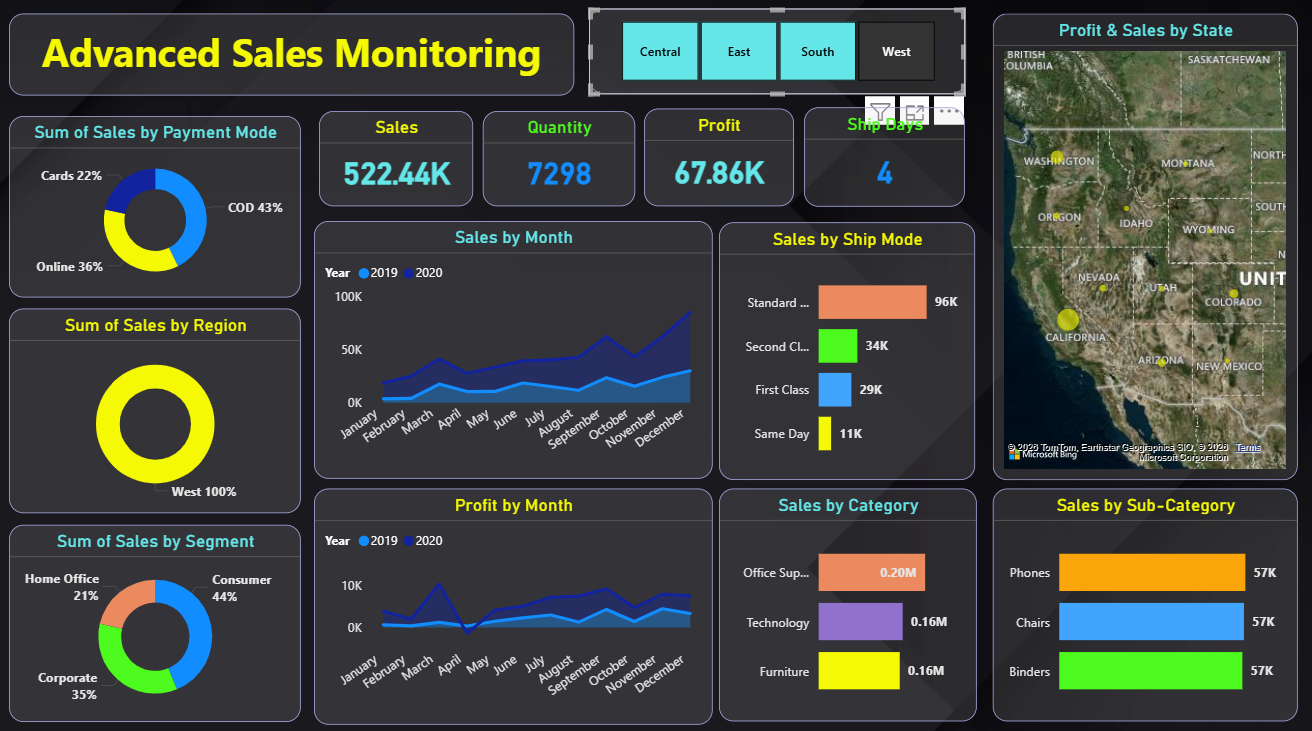

This screenshot's page, from the dashboard's own definition file:
{"tool":"powerbi","page":{"name":"Page 1","canvas":[1280,720],"ordinal":0},"visuals":[{"type":"barChart","title":" Sales by Category","fields":{"Y":["Sum(SuperStore_Sales_Dataset.Sales)"],"Category":["SuperStore_Sales_Dataset.Category"]},"box":[700,475,248.6,225],"z":0},{"type":"barChart","title":" Sales by Sub-Category","fields":{"Y":["Sum(SuperStore_Sales_Dataset.Sales)"],"Category":["SuperStore_Sales_Dataset.Sub-Category"]},"box":[963.9,475,294.4,225],"z":1000},{"type":"barChart","title":" Sales by Ship Mode","fields":{"Y":["Sum(SuperStore_Sales_Dataset.Sales)"],"Category":["SuperStore_Sales_Dataset.Ship Mode"]},"box":[700,218.1,247.2,248.6],"z":2000},{"type":"stackedAreaChart","title":"Sales by Month","fields":{"Y":["Sum(SuperStore_Sales_Dataset.Sales)"],"Category":["SuperStore_Sales_Dataset.Order Date.Variation.Date Hierarchy.Month","SuperStore_Sales_Dataset.Order Date.Variation.Date Hierarchy.Day"],"Series":["SuperStore_Sales_Dataset.Order Date.Variation.Date Hierarchy.Year"]},"box":[308.3,216.7,384.7,248.6],"z":3000},{"type":"stackedAreaChart","title":"Profit by Month","fields":{"Category":["SuperStore_Sales_Dataset.Order Date.Variation.Date Hierarchy.Month","SuperStore_Sales_Dataset.Order Date.Variation.Date Hierarchy.Day"],"Series":["SuperStore_Sales_Dataset.Order Date.Variation.Date Hierarchy.Year"],"Y":["Sum(SuperStore_Sales_Dataset.Profit)"]},"box":[308.3,475,384.7,227.8],"z":4000},{"type":"map","title":"Profit & Sales by State","fields":{"Size":["Sum(SuperStore_Sales_Dataset.Sales)"],"Category":["SuperStore_Sales_Dataset.State"]},"box":[963.9,16.7,294.4,450],"z":5000},{"type":"donutChart","fields":{"Category":["SuperStore_Sales_Dataset.Segment"],"Y":["Sum(SuperStore_Sales_Dataset.Sales)"]},"box":[13.9,509.7,281.9,190.3],"z":6000},{"type":"donutChart","fields":{"Y":["Sum(SuperStore_Sales_Dataset.Sales)"],"Category":["SuperStore_Sales_Dataset.Payment Mode"]},"box":[13.9,115.3,281.9,175],"z":7000},{"type":"slicer","fields":{"Values":["SuperStore_Sales_Dataset.Region"]},"box":[573.8,12.5,363.8,82.5],"z":8000},{"type":"textbox","box":[13.9,16.7,545.8,79.2],"z":9000},{"type":"card","title":"Sales","fields":{"Values":["Sum(SuperStore_Sales_Dataset.Sales)"]},"box":[313.9,111.1,148.6,91.7],"z":10000},{"type":"card","title":"Quantity","fields":{"Values":["Sum(SuperStore_Sales_Dataset.Quantity)"]},"box":[472.2,111.1,147.2,91.7],"z":11000},{"type":"card","title":"Profit","fields":{"Values":["Sum(SuperStore_Sales_Dataset.Profit)"]},"box":[627.8,108.3,144.4,94.4],"z":12000},{"type":"card","title":"Ship Days","fields":{"Values":["Avg(SuperStore_Sales_Dataset.AvgDelivery)"]},"box":[781.9,106.9,155.6,95.8],"z":13000},{"type":"donutChart","fields":{"Y":["Sum(SuperStore_Sales_Dataset.Sales)"],"Category":["SuperStore_Sales_Dataset.Region"]},"box":[13.9,301.4,281.9,197.2],"z":14000}]}

Visuals, with their boxes in screenshot pixels (x1, y1, x2, y2), scaled from the page's 1280x720 canvas onto the 1312x731 screenshot:
" Sales by Category" barChart: <bbox>717, 482, 972, 711</bbox>
" Sales by Sub-Category" barChart: <bbox>988, 482, 1290, 711</bbox>
" Sales by Ship Mode" barChart: <bbox>717, 221, 971, 474</bbox>
"Sales by Month" stackedAreaChart: <bbox>316, 220, 710, 472</bbox>
"Profit by Month" stackedAreaChart: <bbox>316, 482, 710, 714</bbox>
"Profit & Sales by State" map: <bbox>988, 17, 1290, 474</bbox>
donutChart - SuperStore_Sales_Dataset.Segment x Sum(SuperStore_Sales_Dataset.Sales): <bbox>14, 517, 303, 711</bbox>
donutChart - Sum(SuperStore_Sales_Dataset.Sales) x SuperStore_Sales_Dataset.Payment Mode: <bbox>14, 117, 303, 295</bbox>
slicer - SuperStore_Sales_Dataset.Region: <bbox>588, 13, 961, 96</bbox>
textbox: <bbox>14, 17, 574, 97</bbox>
"Sales" card: <bbox>322, 113, 474, 206</bbox>
"Quantity" card: <bbox>484, 113, 635, 206</bbox>
"Profit" card: <bbox>643, 110, 792, 206</bbox>
"Ship Days" card: <bbox>801, 109, 961, 206</bbox>
donutChart - Sum(SuperStore_Sales_Dataset.Sales) x SuperStore_Sales_Dataset.Region: <bbox>14, 306, 303, 506</bbox>
